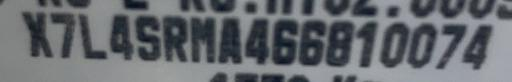letter: (158, 14, 190, 64), (434, 21, 466, 70), (22, 9, 54, 57), (378, 20, 410, 68), (188, 15, 218, 63), (326, 19, 356, 67), (462, 22, 494, 67), (407, 20, 437, 65), (270, 18, 300, 62), (350, 21, 380, 65), (50, 11, 78, 58), (78, 14, 106, 61), (132, 14, 160, 61), (218, 16, 244, 64), (300, 17, 326, 63), (109, 14, 133, 62), (245, 19, 271, 63)
